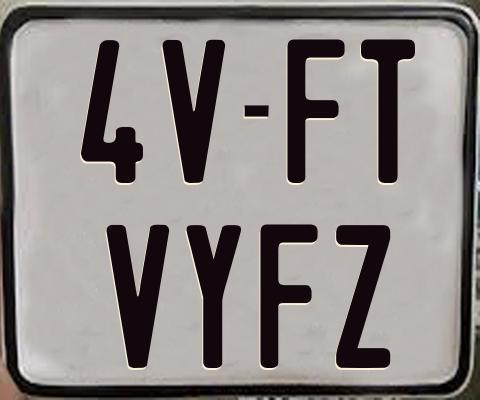4: (78, 40, 144, 183)
F: (284, 36, 348, 180), (258, 223, 321, 368)
T: (358, 37, 412, 186)
V: (105, 224, 174, 373), (161, 39, 229, 185)
Y: (184, 222, 242, 370)
Z: (333, 222, 390, 369)
